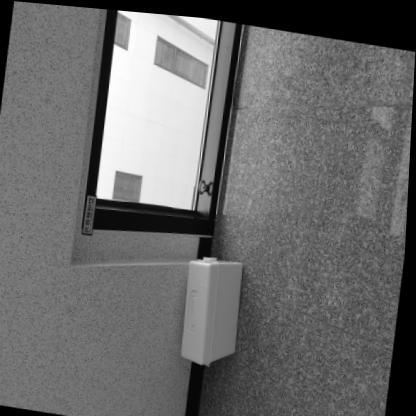DDL: (180, 247, 250, 368)
